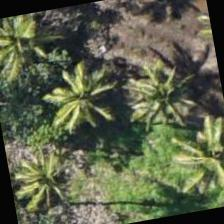Kelapa_Sawit: (22, 54, 126, 158), (4, 128, 100, 223), (162, 115, 223, 215), (0, 8, 67, 91)
